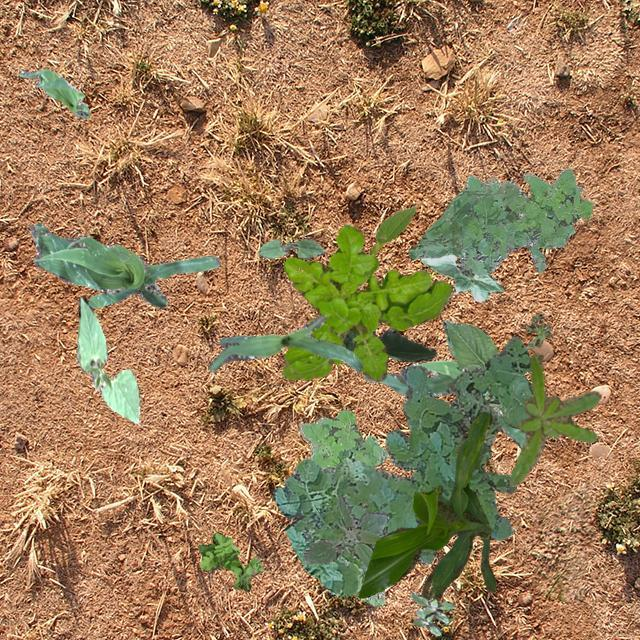crop: (358, 410, 494, 600), (28, 222, 220, 306), (362, 358, 526, 448), (440, 320, 532, 430), (208, 314, 362, 371), (76, 296, 138, 422), (420, 252, 502, 302), (363, 206, 415, 280), (18, 68, 88, 118), (342, 328, 434, 361), (258, 236, 324, 258)
weed: (272, 336, 530, 596), (280, 224, 452, 380), (408, 168, 592, 274), (300, 410, 386, 604), (508, 352, 600, 486), (302, 496, 388, 570), (196, 532, 262, 590), (409, 592, 454, 634), (524, 312, 552, 348)
